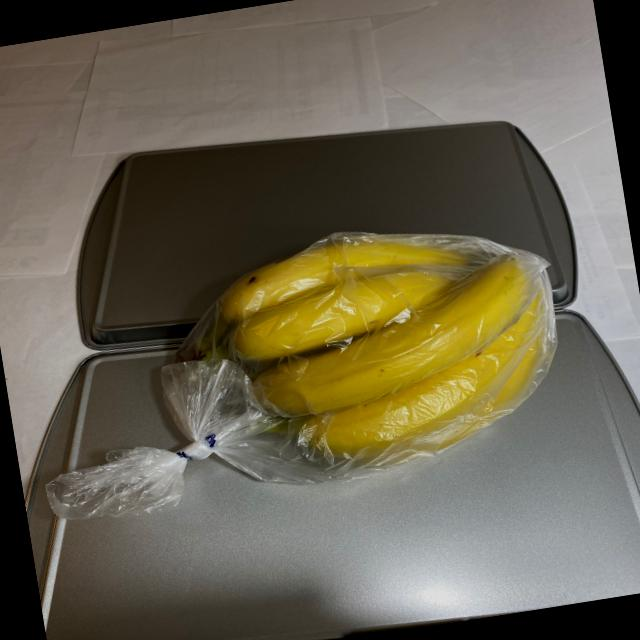banana: (139, 200, 582, 506)
